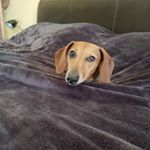puppy: (53, 38, 116, 89)
